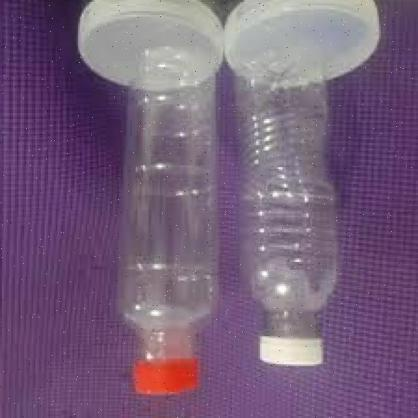bottle: (226, 37, 359, 371), (112, 31, 230, 406)
cap: (124, 358, 207, 401), (253, 333, 328, 368)
